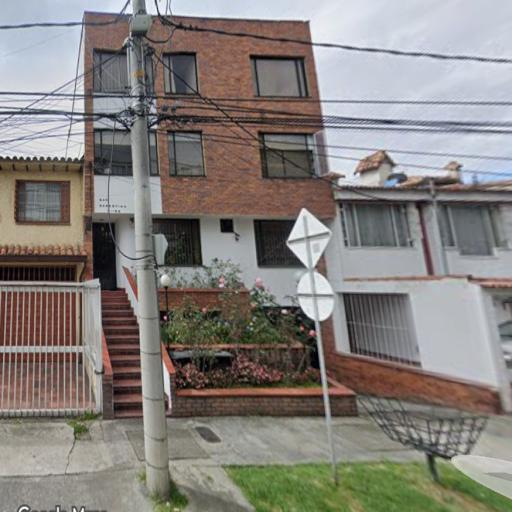poste: (121, 0, 179, 501)
